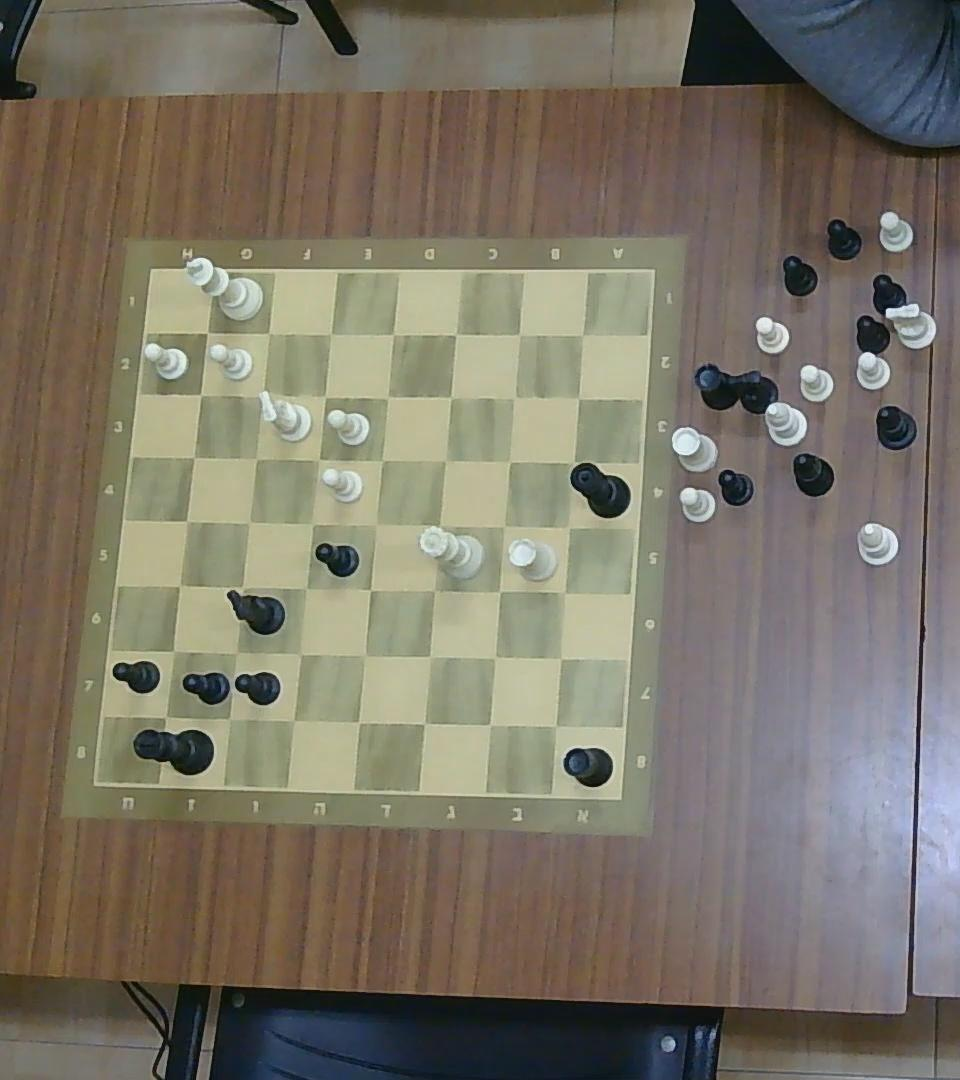xcorner: (215, 705, 241, 732), (411, 710, 437, 737), (417, 642, 443, 669), (280, 706, 305, 734), (153, 702, 179, 728), (543, 712, 569, 738), (477, 712, 503, 738), (352, 641, 377, 668), (379, 320, 404, 347), (486, 578, 511, 605), (167, 572, 192, 598), (425, 513, 450, 539), (346, 709, 371, 734), (481, 645, 506, 670), (551, 579, 576, 604), (547, 645, 572, 670), (558, 448, 583, 473), (375, 383, 399, 409), (237, 508, 261, 534), (557, 513, 581, 539), (491, 513, 515, 539), (421, 577, 445, 603), (288, 639, 311, 666), (174, 507, 198, 532), (223, 640, 247, 665), (358, 576, 382, 601), (294, 576, 318, 601), (229, 574, 253, 599), (196, 319, 219, 345), (162, 638, 185, 664), (188, 381, 212, 405), (318, 321, 341, 346), (497, 448, 520, 473), (438, 384, 461, 408), (300, 512, 323, 536), (364, 512, 387, 536), (257, 320, 280, 344), (250, 381, 273, 405), (570, 322, 594, 345), (433, 448, 455, 473), (444, 322, 467, 345), (306, 447, 329, 470), (566, 386, 589, 409), (508, 322, 531, 345), (182, 445, 204, 469), (245, 445, 267, 469), (369, 448, 391, 472), (313, 384, 335, 408), (503, 386, 524, 409)
